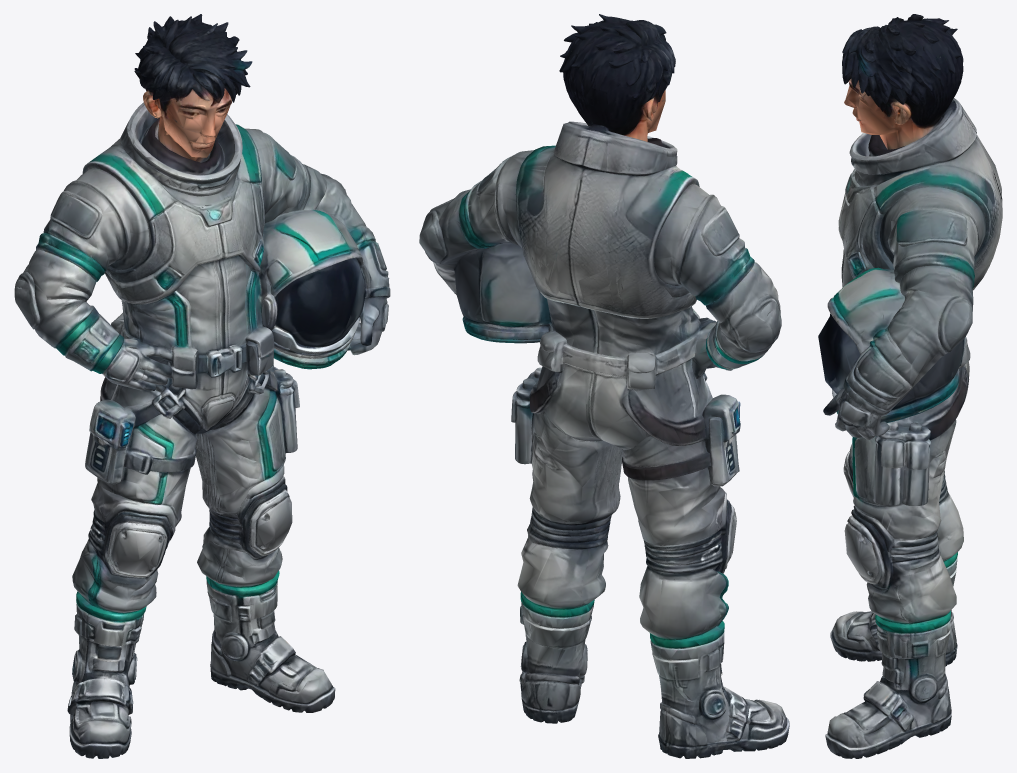
File: avatar-male.glb
3 renders of one model, left to right at view 1: azimuth 30°, elevation 25°; view 2: azimuth 150°, elevation 25°; view 3: azimuth 270°, elevation 25°, orthographic. The views are drawn at different scales.
Visible parts, largest first — view 1: model; view 2: model; view 3: model.
Boxes of the visible parts, x1=… form: model: x1=14, y1=14, x2=390, y2=758; model: x1=419, y1=14, x2=789, y2=758; model: x1=818, y1=14, x2=1002, y2=758.
Size of the model in its own units: 1 by 1.9 by 0.4636.
1 material, 1 textured.
